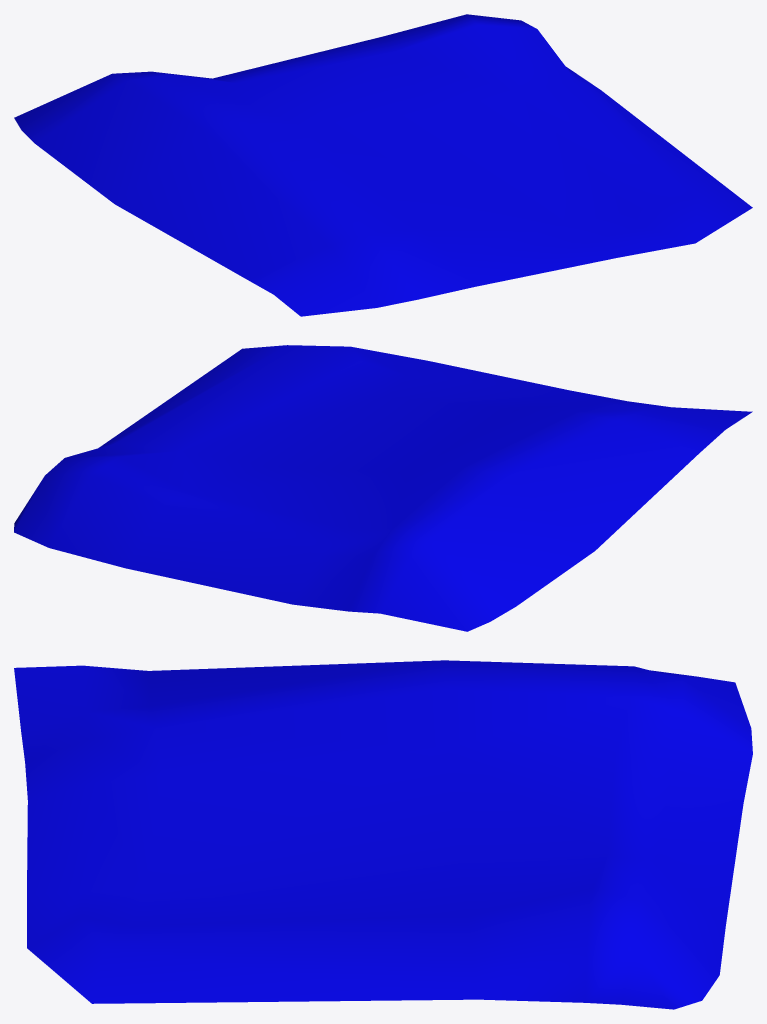
File: CavernWall01.fbx
3 renders of one model, top to bottom at view 1: azimuth 30°, elevation 25°; view 2: azimuth 150°, elevation 25°; view 3: azimuth 270°, elevation 25°, orthographic. The views are drawn at different scales.
Parts seen in each view (by area): view 1: ndWAllsHighPoly3:ZBrush_defualt_group1; view 2: ndWAllsHighPoly3:ZBrush_defualt_group1; view 3: ndWAllsHighPoly3:ZBrush_defualt_group1.
Boxes of the visible parts, <box> form: ndWAllsHighPoly3:ZBrush_defualt_group1: <box>14,14,752,316</box>; ndWAllsHighPoly3:ZBrush_defualt_group1: <box>14,345,752,631</box>; ndWAllsHighPoly3:ZBrush_defualt_group1: <box>14,660,752,1009</box>.
Bounding box in the file's own units: 24.04 × 3.67 × 24.55.
